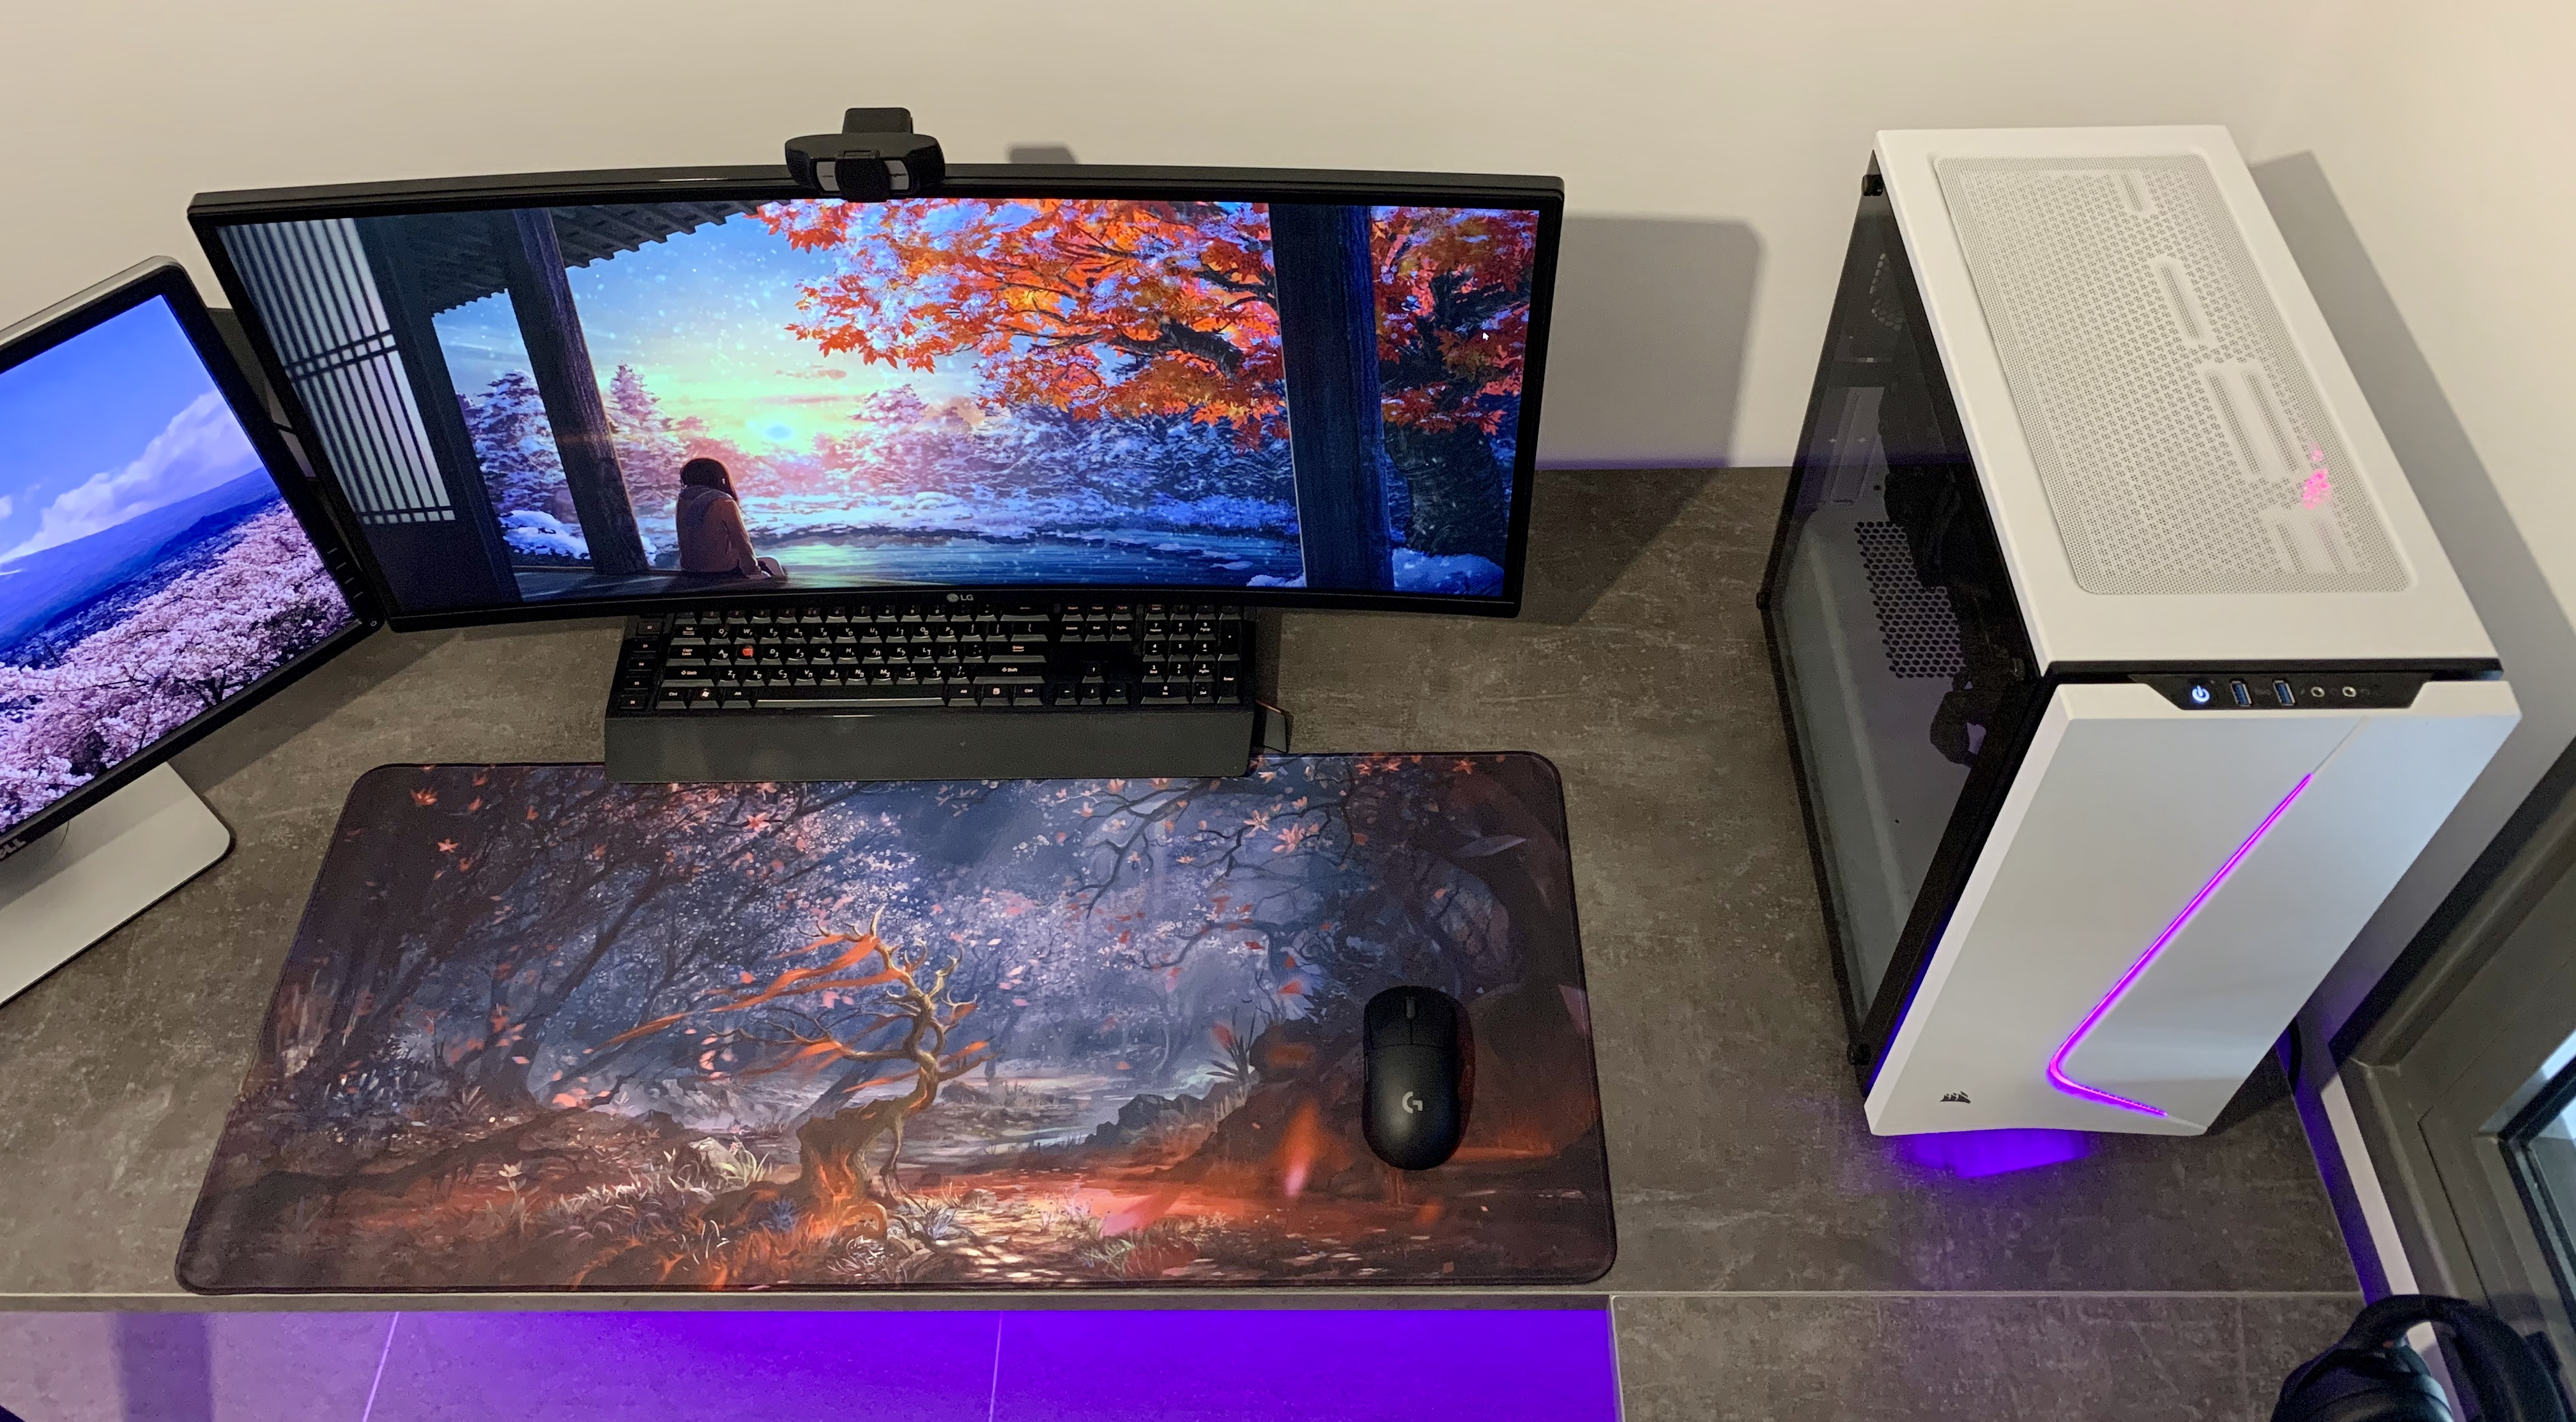Desk (Generic): (0, 445, 2417, 1306)
Desktop (Generic): (1755, 117, 2520, 1180)
External Webcam: (751, 91, 966, 203)
Headphones: (2278, 1259, 2576, 1422)
Keyboard (Generic): (633, 620, 1286, 790)
Monitor (Landscape): (210, 207, 1524, 615), (0, 259, 294, 872)
Mouse (Gaming): (1312, 981, 1517, 1144)
Mousepad (Generic): (173, 762, 1643, 1298)
